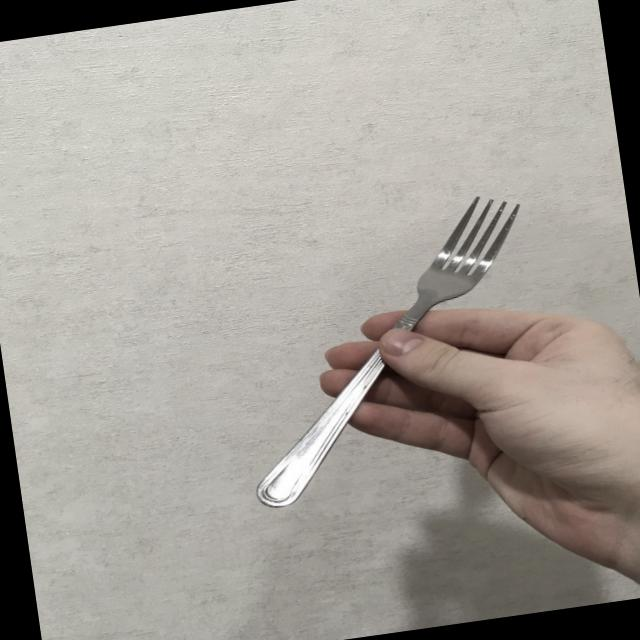fork: (220, 188, 560, 511)
